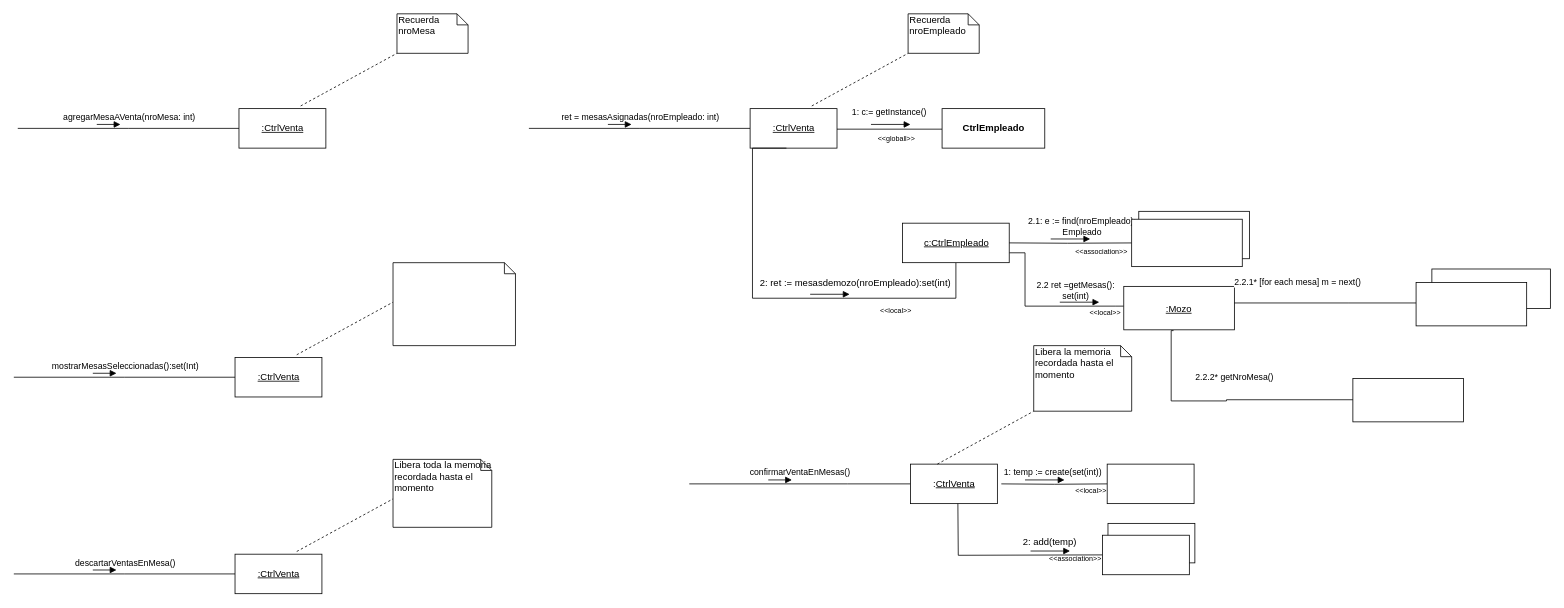
Image size: 1564x608. Some labels were removed from this diagram. Here are the shapes that lost their labels. From the top down, the centre of each, then its label:
the point at 1186,242: :Empleado
the point at 453,304: El controlador devuelve todos los nroMesa que guardó
the point at 1471,304: :Mesa
the point at 1407,400: m:Mesa
the point at 1150,483: :Local
the point at 1145,554: :Venta
